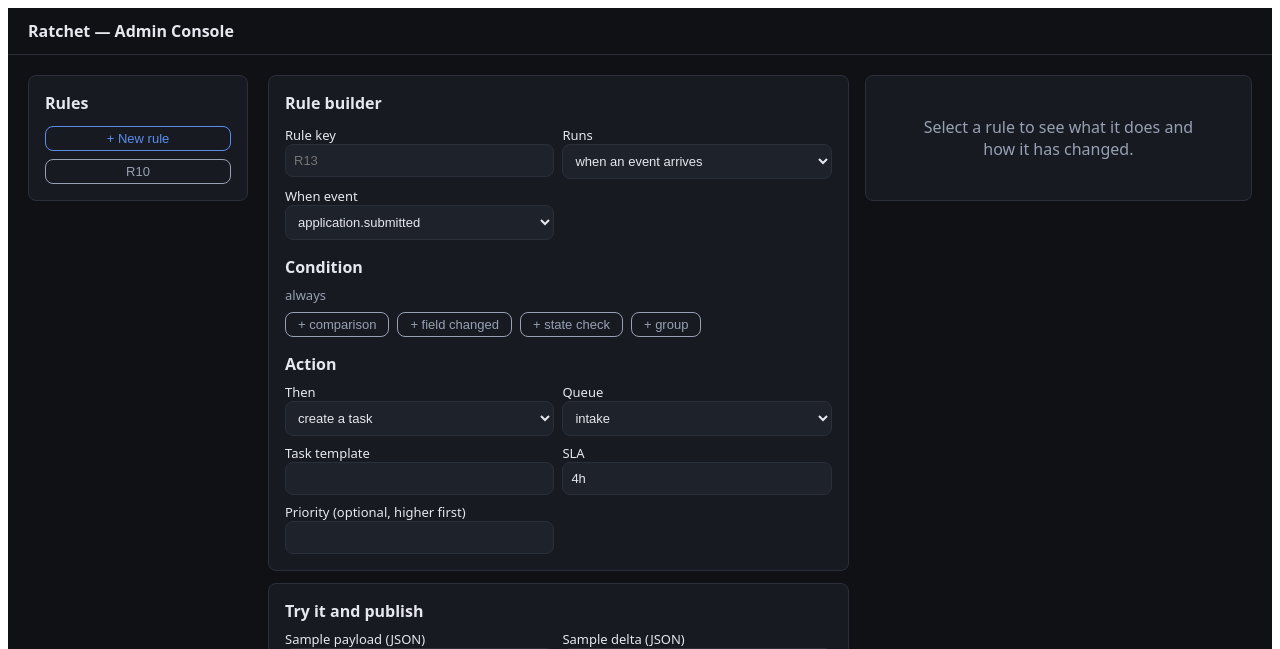
Test: New rule clears a loaded rule out of the builder
What coordinates should you click on to do the following:
click the button "R10"
I would click on:
 (138, 172)
Its box is [45,159,231,184].
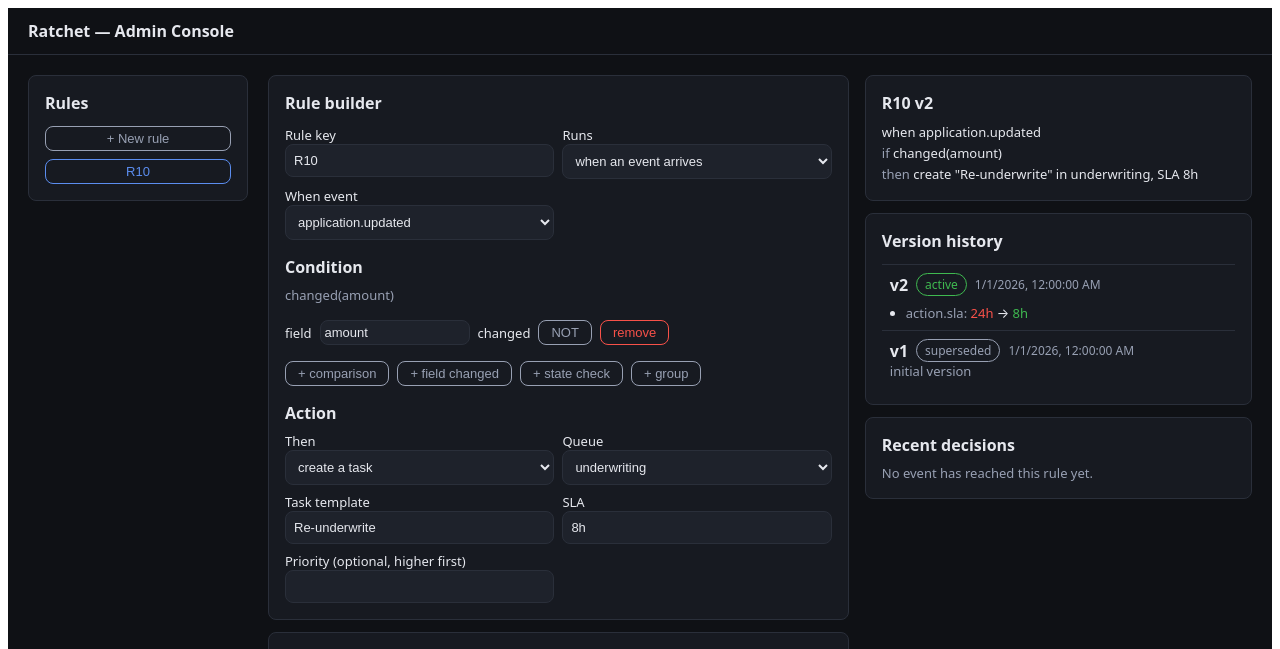
What coordinates should you click on to do the following:
click the button "+ New rule"
I would click on:
 (138, 138)
Its box is [45,126,231,151].
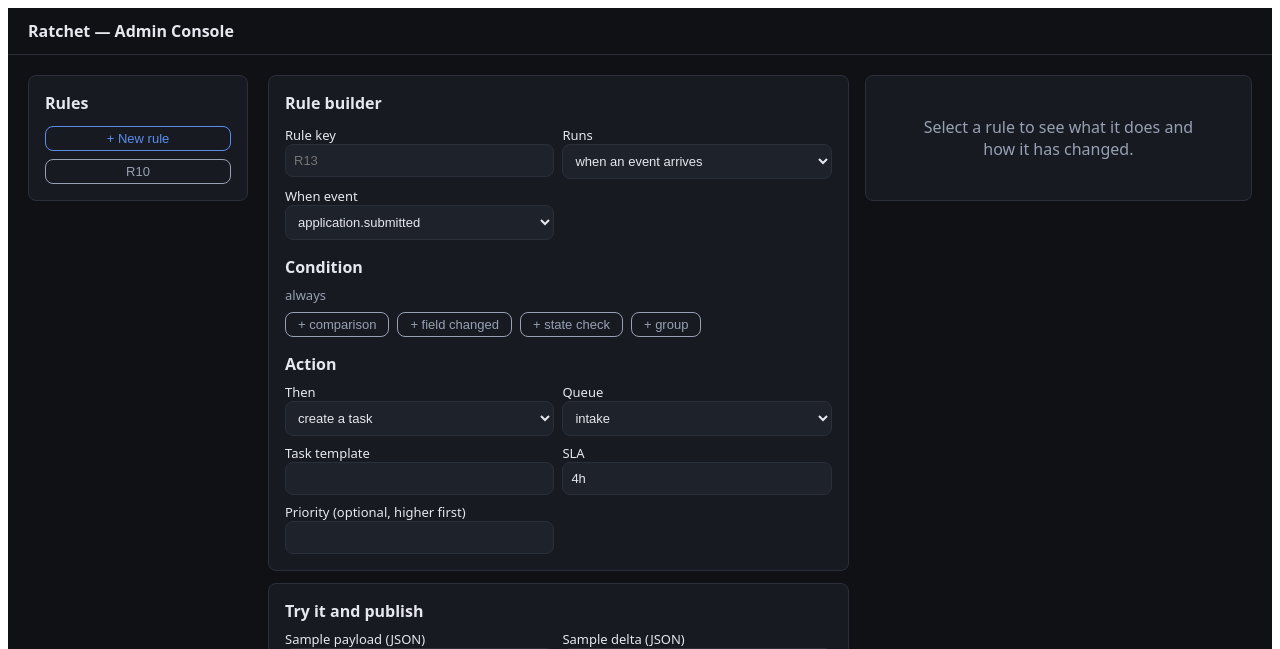
expect the text "always" is shown: met, box [285,286,326,304]
